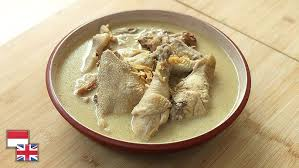Opor ayam: (52, 18, 249, 145)
